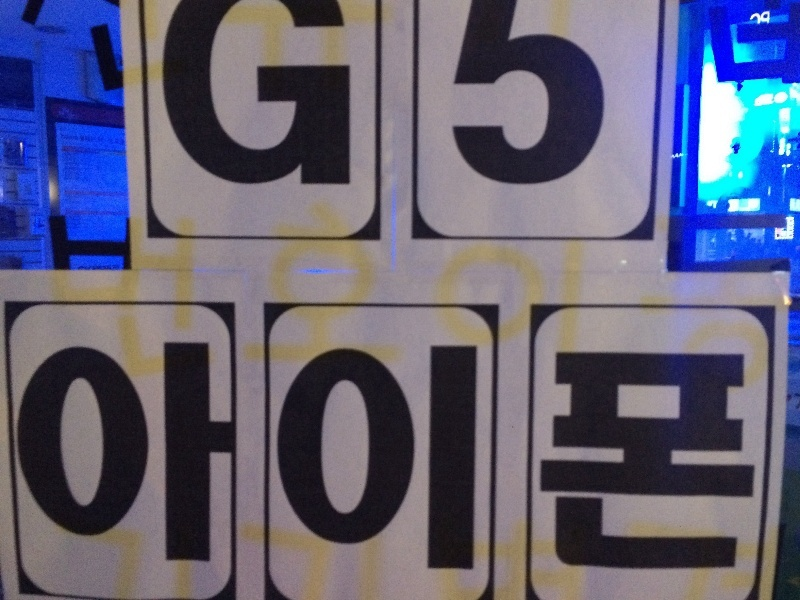text: (17, 330, 32, 585), (33, 330, 48, 585), (49, 330, 64, 585), (65, 330, 80, 585), (81, 330, 96, 585), (97, 330, 112, 585), (113, 330, 128, 585), (129, 330, 144, 585), (145, 330, 160, 585), (161, 330, 176, 585), (177, 330, 192, 585), (193, 330, 208, 585), (209, 330, 224, 585), (225, 330, 240, 585), (241, 330, 256, 585), (257, 330, 272, 585), (273, 330, 288, 585), (289, 330, 304, 585), (305, 330, 320, 585), (321, 330, 336, 585), (337, 330, 352, 585), (353, 330, 368, 585), (369, 330, 384, 585), (385, 330, 400, 585), (401, 330, 416, 585), (417, 330, 432, 585), (433, 330, 448, 585), (449, 330, 464, 585), (465, 330, 480, 585), (481, 330, 496, 585), (497, 330, 512, 585), (513, 330, 528, 585), (529, 330, 544, 585), (545, 330, 560, 585), (561, 330, 576, 585), (577, 330, 592, 585), (593, 330, 608, 585), (609, 330, 624, 585), (625, 330, 640, 585), (641, 330, 656, 585), (657, 330, 672, 585), (673, 330, 688, 585), (689, 330, 704, 585), (705, 330, 720, 585), (721, 330, 736, 585), (737, 330, 752, 585), (177, 1, 192, 191), (193, 1, 208, 191), (209, 1, 224, 191), (225, 1, 240, 191), (241, 1, 256, 191), (257, 1, 272, 191), (273, 1, 288, 191), (289, 1, 304, 191), (305, 1, 320, 191), (321, 1, 336, 191), (337, 1, 352, 191), (353, 1, 368, 191), (369, 1, 384, 191), (385, 1, 400, 191), (401, 1, 416, 191), (417, 1, 432, 191), (433, 1, 448, 191), (449, 1, 464, 191), (465, 1, 480, 191), (481, 1, 496, 191), (497, 1, 512, 191), (513, 1, 528, 191), (529, 1, 544, 191), (545, 1, 560, 191), (561, 1, 576, 191), (577, 1, 592, 191), (593, 1, 608, 191), (162, 1, 176, 191), (753, 330, 761, 585), (113, 132, 129, 216), (65, 132, 80, 216), (81, 132, 96, 216), (97, 132, 112, 216), (14, 330, 16, 585), (753, 8, 768, 26), (61, 132, 64, 216), (609, 1, 610, 191), (97, 264, 112, 270), (82, 264, 96, 270), (748, 8, 752, 26), (113, 264, 121, 270), (769, 8, 771, 26)
